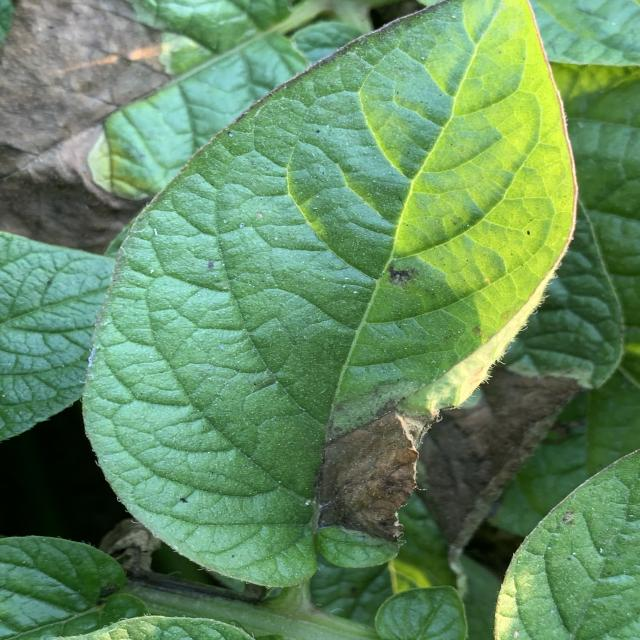lateblight: (318, 410, 435, 540)
